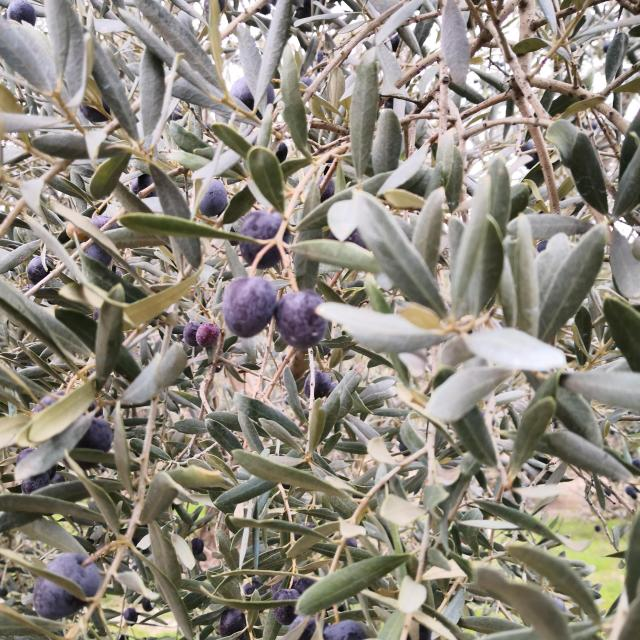Healthy: (222, 277, 327, 349), (46, 553, 104, 600), (33, 575, 87, 620), (239, 210, 282, 241), (199, 179, 228, 217), (7, 0, 37, 26), (239, 242, 265, 265), (257, 246, 281, 269), (283, 229, 291, 244)
